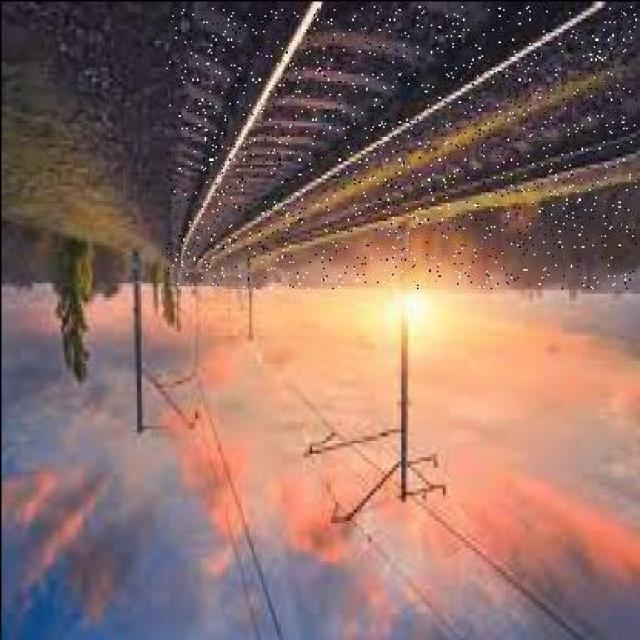rail: (165, 5, 635, 287)
